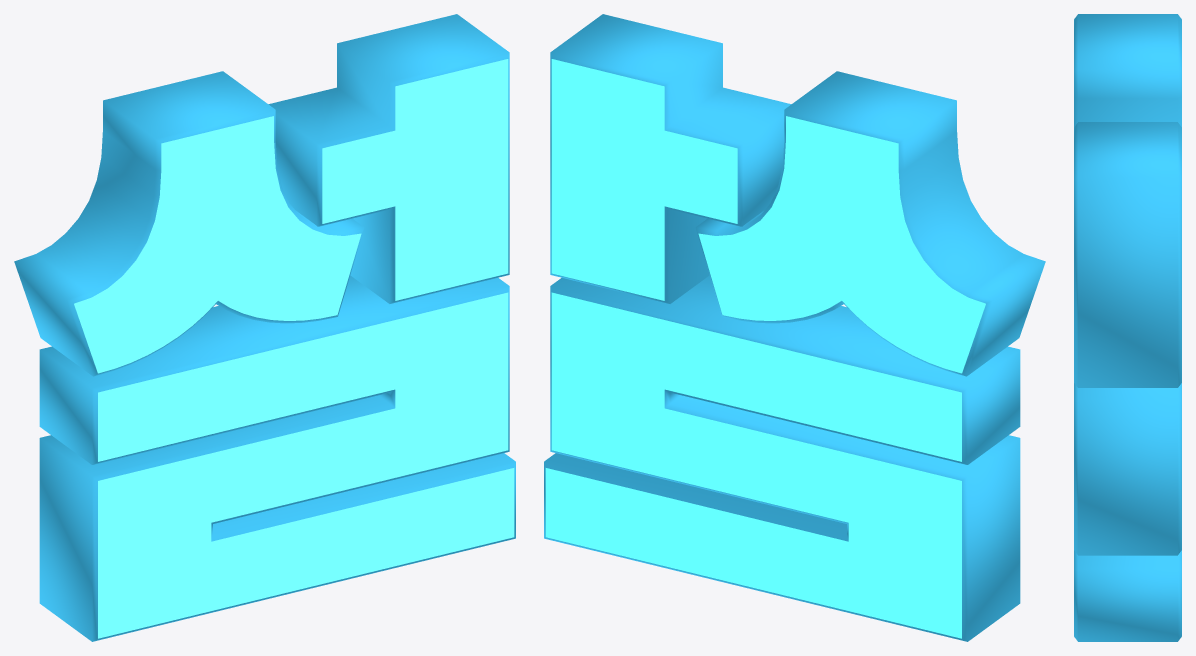
3 renders of one model, left to right at view 1: azimuth 30°, elevation 25°; view 2: azimuth 150°, elevation 25°; view 3: azimuth 270°, elevation 25°, orthographic. The views are drawn at different scales.
Parts seen in each view (by area): view 1: glyph; view 2: glyph; view 3: glyph.
Boxes of the visible parts, bbox=[...] form: glyph: bbox=[14, 14, 515, 641]; glyph: bbox=[544, 14, 1045, 641]; glyph: bbox=[1074, 14, 1181, 641].
Size of the model in its own units: 0.0738 by 0.0766 by 0.0162.
